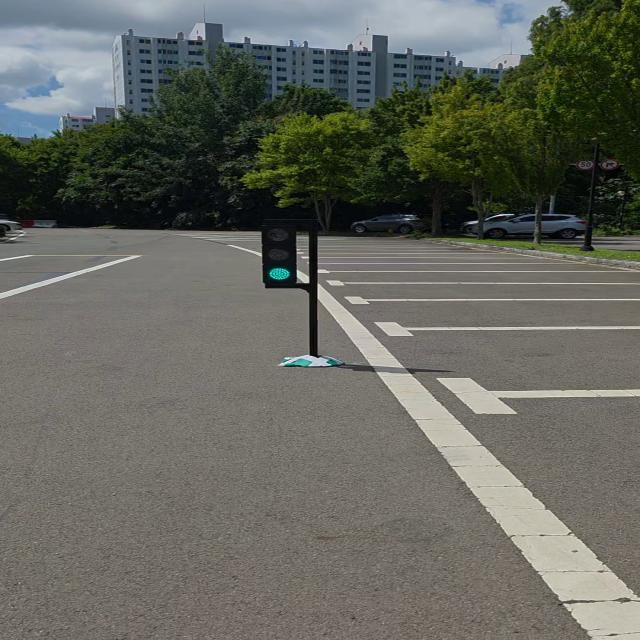green: (262, 220, 301, 288)
